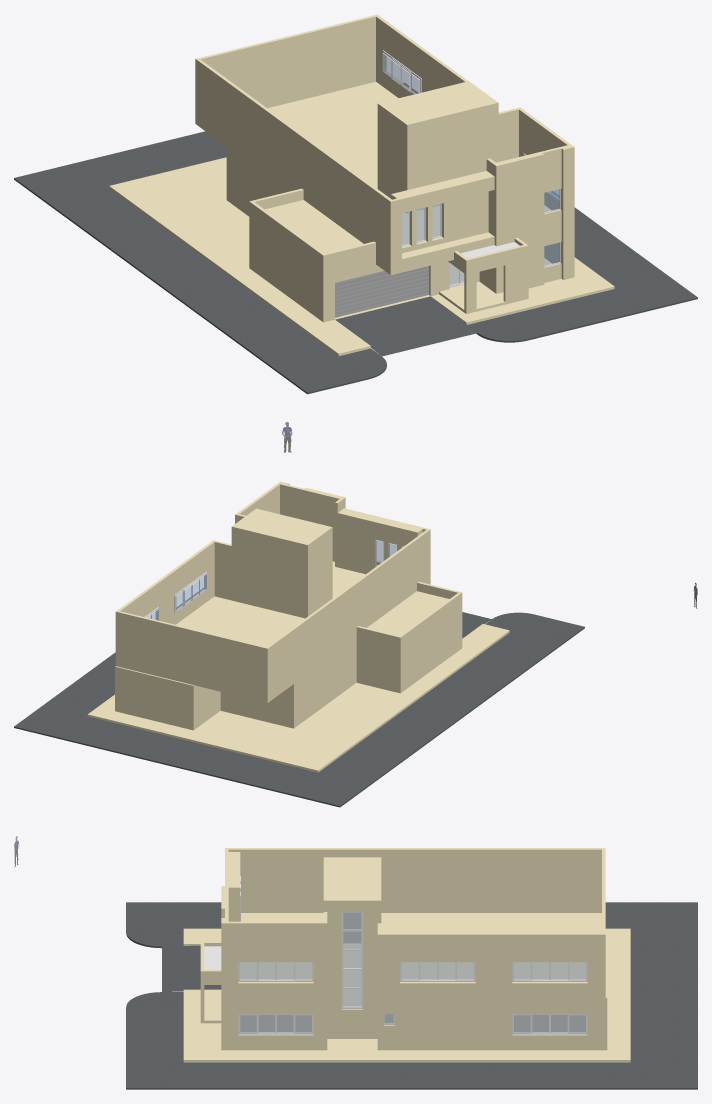
3 renders of one model, top to bottom at view 1: azimuth 30°, elevation 25°; view 2: azimuth 150°, elevation 25°; view 3: azimuth 270°, elevation 25°, orthographic. The views are drawn at different scales.
Visible parts, largest first — view 1: 17755, 19612, 17425, 17136, 18870, 19588, 19525, 18552, 18647, 17641, 20702; view 2: 17755, 19612, 17136, 17425, 18870, 18647, 20701; view 3: 17755, 19612, 17136, 17425, 18870, 20764, 19588, 20700, 20703, 20290, 20701, 20702 (+3 smaller).
Part boxes in pixels (box(x1,y1,x2,y2)): 17755: box(195, 14, 574, 275); 19612: box(14, 83, 697, 394); 17425: box(109, 157, 614, 356); 17136: box(226, 103, 574, 322); 18870: box(377, 82, 495, 213); 19588: box(335, 296, 477, 356); 19525: box(335, 266, 428, 317); 18552: box(448, 238, 528, 311); 18647: box(265, 200, 363, 253); 17641: box(439, 282, 528, 313); 20702: box(382, 50, 421, 94); 17755: box(115, 481, 430, 702); 19612: box(14, 588, 584, 807); 17136: box(115, 567, 462, 730); 17425: box(87, 624, 509, 772); 18870: box(234, 509, 332, 618); 18647: box(367, 591, 449, 635); 20701: box(174, 571, 207, 613); 17755: box(221, 848, 605, 997); 19612: box(126, 902, 697, 1089); 17136: box(221, 913, 607, 1050); 17425: box(183, 928, 630, 1062); 18870: box(323, 857, 381, 976); 20764: box(341, 912, 363, 1008); 19588: box(162, 945, 221, 991); 20700: box(238, 1014, 313, 1035); 20703: box(512, 1014, 587, 1035); 20290: box(238, 962, 313, 981); 20701: box(400, 962, 475, 981); 20702: box(512, 962, 587, 981).
Bounding box in the file's own units: 29.51 × 8.75 × 38.08.
Materials: 657 (43 with a texture image).
